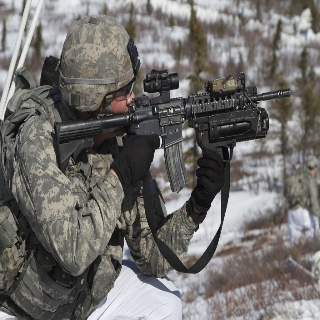rifle: (52, 69, 292, 187)
